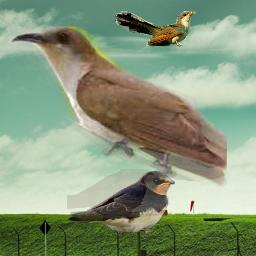Cuckoo: (6, 26, 227, 188), (115, 11, 196, 47)
Swallow: (67, 169, 175, 238)
